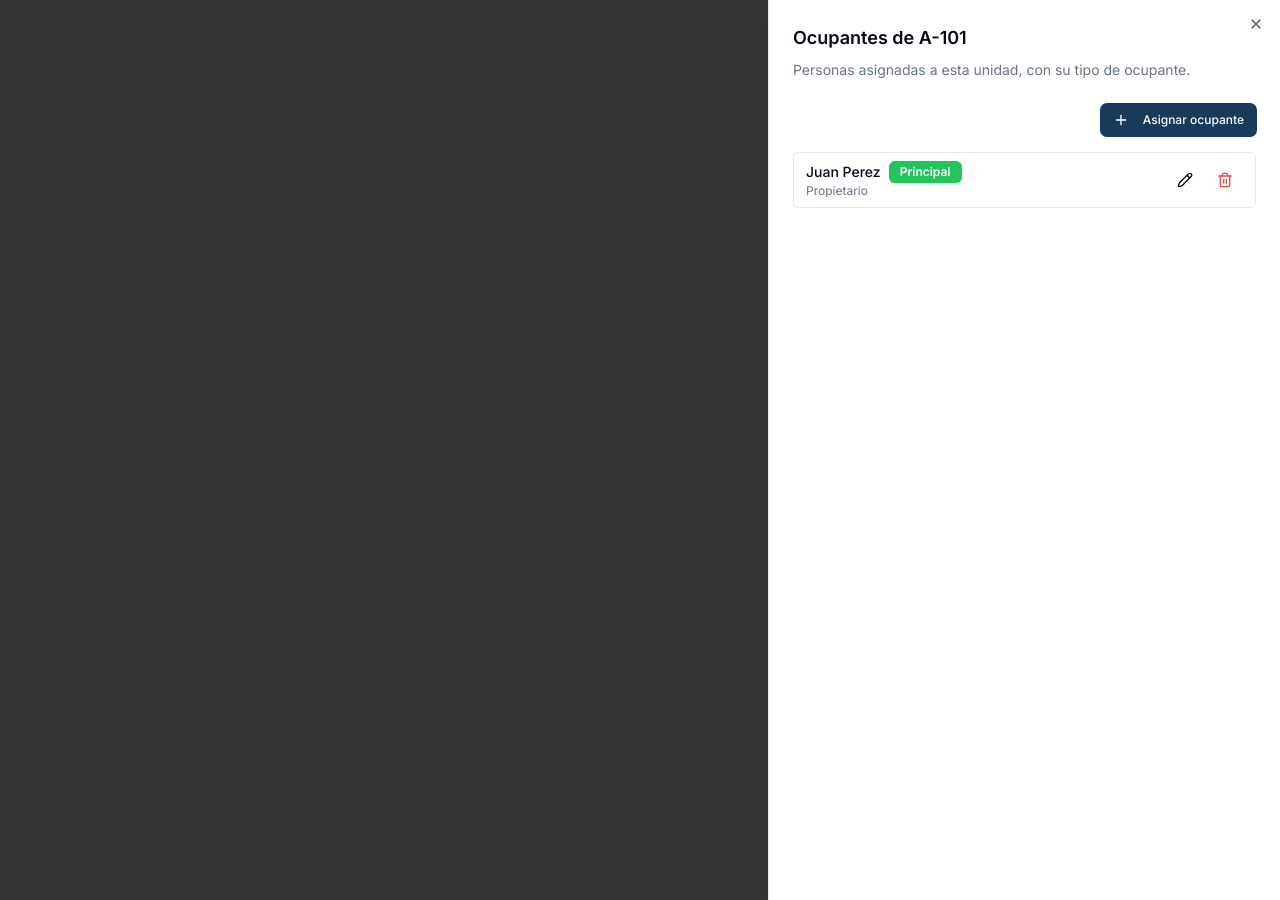
Test: OcupantesSheet › abre el diálogo de asignar ocupante
This screenshot has width=1280, height=900.
Click the button "Asignar ocupante": (1178, 120) x1=1101 y1=104 x2=1256 y2=136
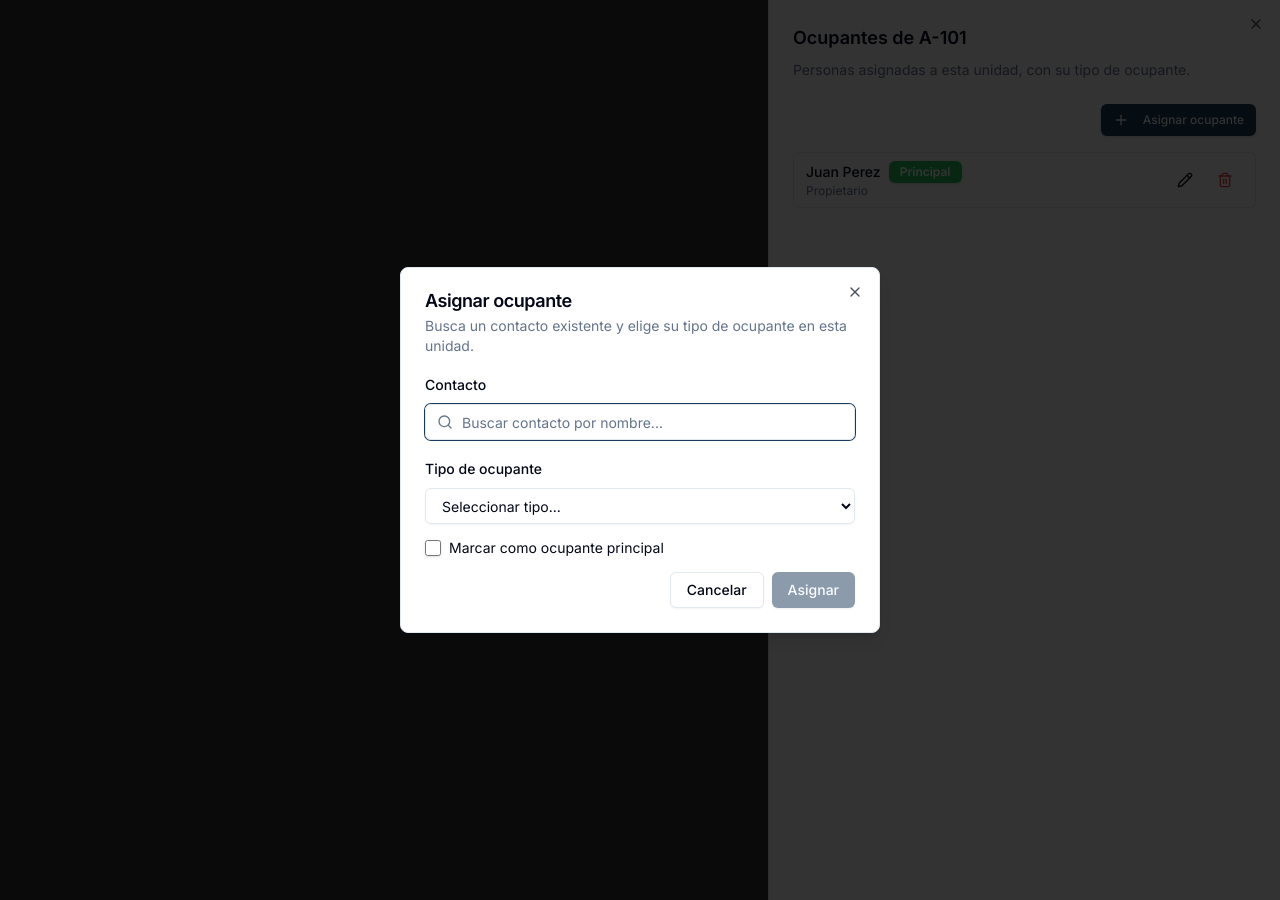
Result: the heading "Asignar ocupante" is shown at x1=425 y1=290 x2=572 y2=311
